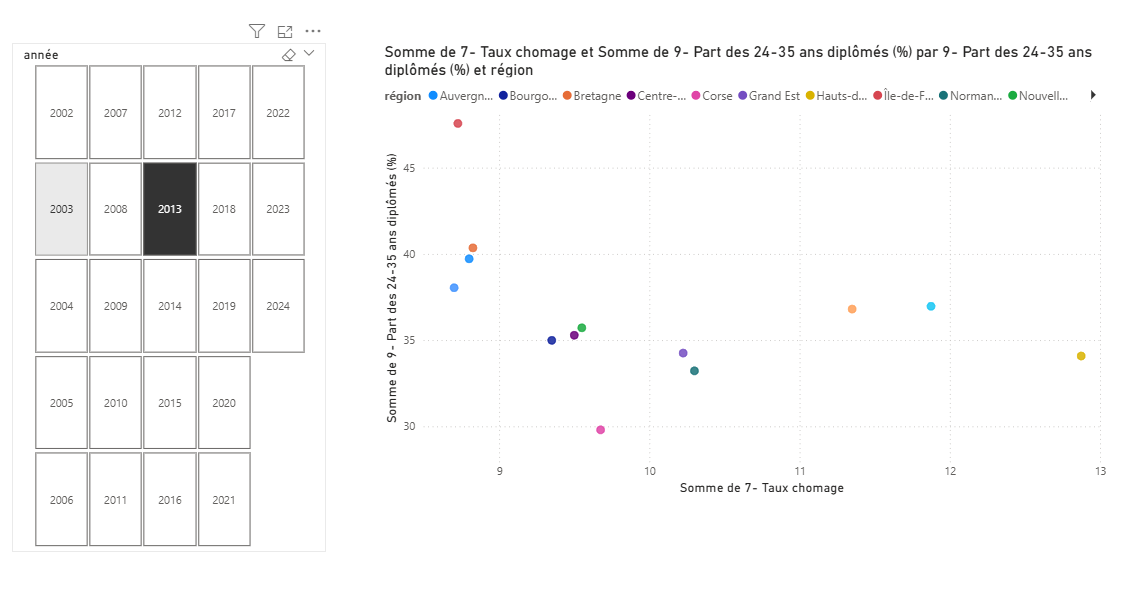

Layout of this report page (visuals, bound fields, positions):
{"tool":"powerbi","page":{"name":"Taux chômage / 24-35 diplomées par region/année","canvas":[1280,720],"ordinal":6},"visuals":[{"type":"scatterChart","fields":{"X":["Sum(Données élections.7- Taux chomage)"],"Y":["Sum(Données élections.9- Part des 24-35 ans diplômés (%))"],"Category":["Données élections.9- Part des 24-35 ans diplômés (%)"],"Series":["Données élections.région"]},"box":[440,54.4,812.2,507.8],"z":0},{"type":"slicer","fields":{"Values":["Données élections.année"]},"box":[31.1,54.4,348.9,565.6],"z":1000}]}

Visuals, with their boxes on the page's 1280x720 design canvas (x1, y1, x2, y2). These are canvas units, not pixel positions in the 1127x607 screenshot, which may show the page scaled, cropped or inside an application window:
scatterChart - Sum(Données élections.7- Taux chomage) x Sum(Données élections.9- Part des 24-35 ans diplômés (%)): x1=440, y1=54, x2=1252, y2=562
slicer - Données élections.année: x1=31, y1=54, x2=380, y2=620
